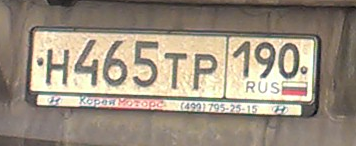character: (131, 39, 162, 92), (73, 39, 100, 89), (103, 39, 127, 89), (192, 51, 219, 92), (45, 47, 71, 89), (163, 49, 188, 92), (253, 40, 277, 80), (277, 39, 299, 79), (233, 40, 251, 82)
